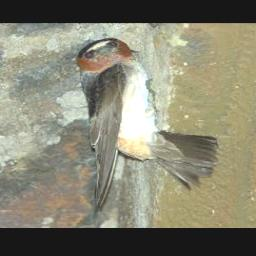Swallow: (75, 37, 219, 216)
